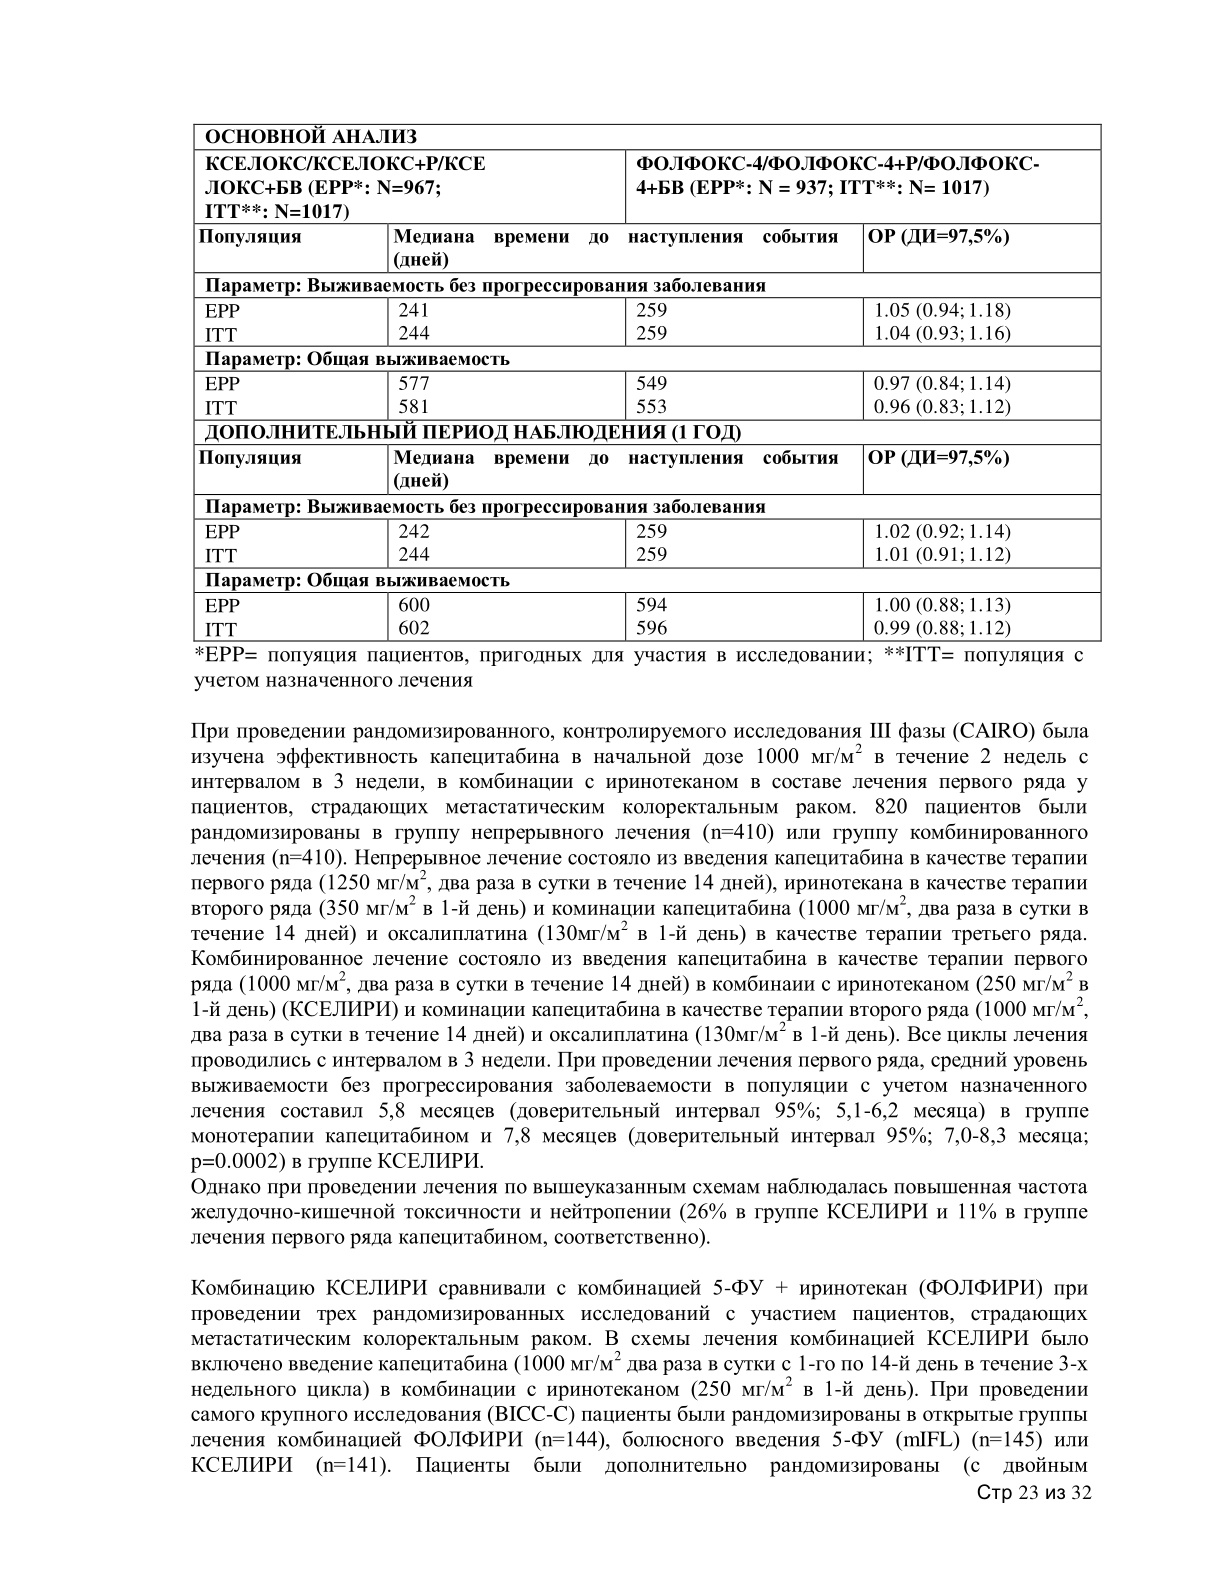merged_cells: (192, 123, 1102, 642)
